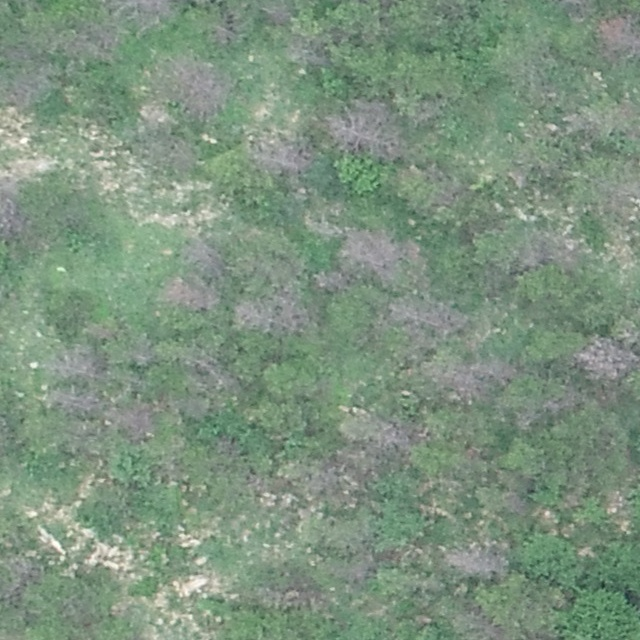unhealthy: (327, 97, 404, 162), (341, 225, 419, 286), (385, 293, 467, 343), (426, 356, 510, 404), (234, 287, 313, 337), (341, 412, 423, 455), (164, 56, 232, 106), (400, 166, 468, 214), (306, 456, 366, 507), (573, 333, 635, 382), (249, 131, 315, 177), (566, 101, 640, 142), (444, 539, 511, 581), (518, 228, 582, 271), (65, 20, 125, 64), (181, 351, 238, 396), (46, 344, 106, 383), (159, 275, 221, 312), (595, 12, 640, 62), (0, 67, 53, 109), (258, 581, 329, 610), (599, 175, 640, 224), (108, 403, 158, 440), (43, 387, 100, 417), (451, 608, 504, 640), (180, 236, 224, 274), (151, 138, 197, 174), (285, 33, 329, 69), (113, 0, 179, 22), (3, 553, 41, 586), (0, 192, 26, 240), (544, 388, 583, 416), (127, 339, 157, 368), (312, 267, 342, 295), (500, 489, 531, 515), (85, 318, 118, 342), (260, 1, 291, 26)
